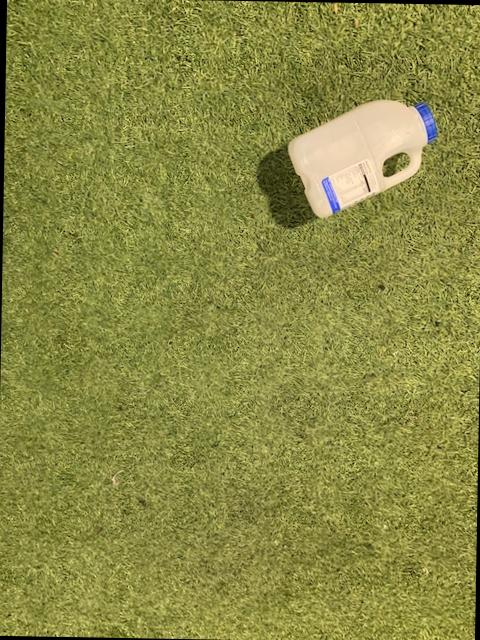plastic: (286, 98, 434, 214)
